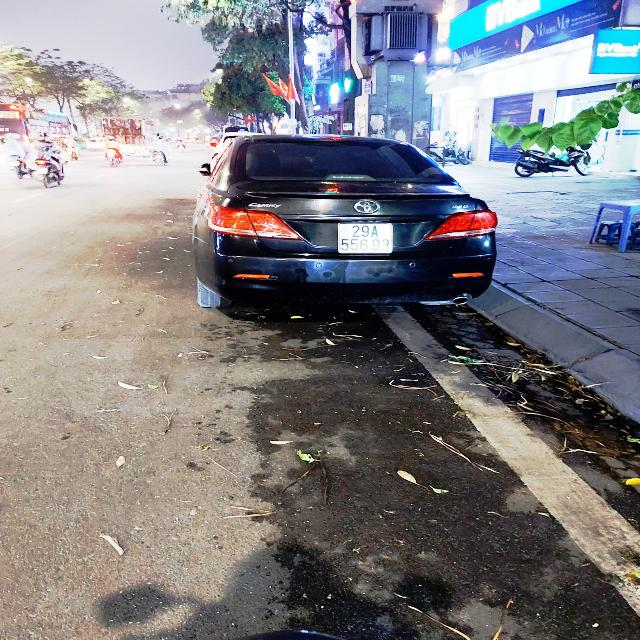license_plate: (337, 224, 395, 254)
